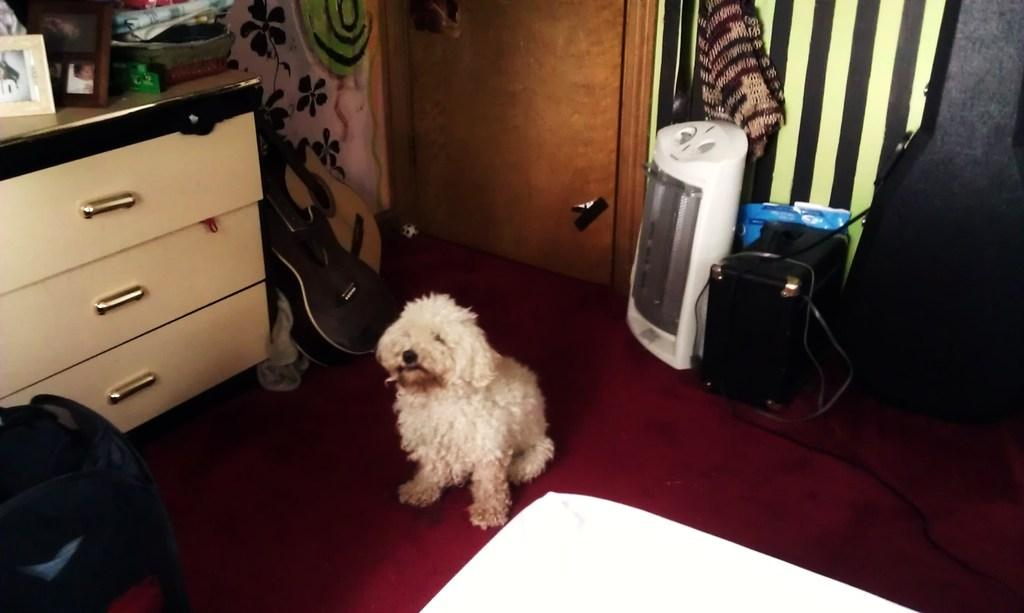Computer-monitor: (624, 117, 749, 371)
